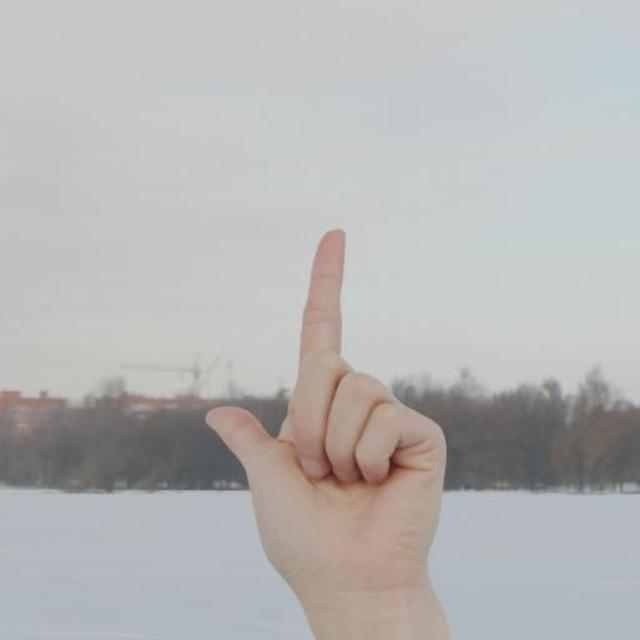L: (200, 228, 450, 596)
